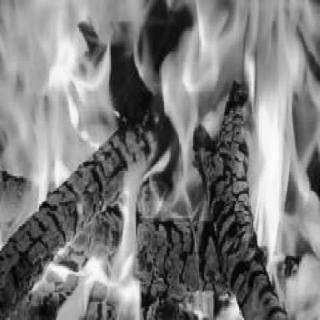Fire: (4, 0, 320, 316)
